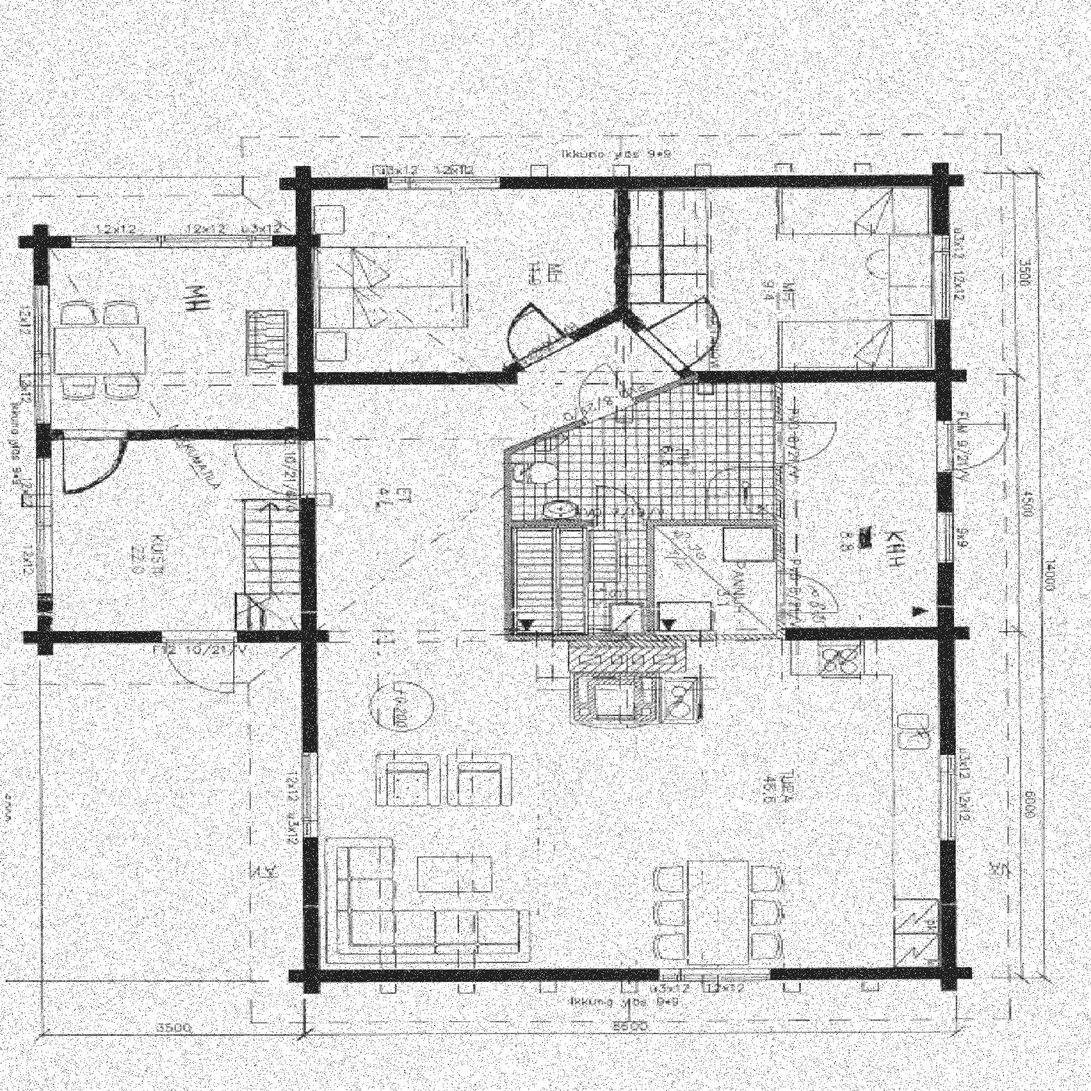wall: (503, 369, 696, 455), (938, 166, 954, 991), (288, 966, 968, 979), (505, 303, 624, 374), (284, 178, 969, 190), (35, 235, 52, 644), (304, 247, 320, 631), (621, 303, 696, 381), (304, 631, 320, 990), (35, 631, 320, 644), (569, 641, 687, 672), (689, 368, 968, 381), (35, 235, 320, 247), (285, 372, 521, 385), (52, 428, 303, 440), (785, 627, 972, 642), (503, 633, 785, 642), (776, 381, 785, 642), (503, 449, 514, 642), (514, 519, 776, 527), (615, 190, 631, 311), (304, 166, 320, 247), (646, 527, 655, 633), (35, 222, 52, 247), (35, 631, 52, 655), (505, 368, 521, 385), (20, 631, 35, 644), (19, 235, 35, 247), (320, 631, 330, 643)
